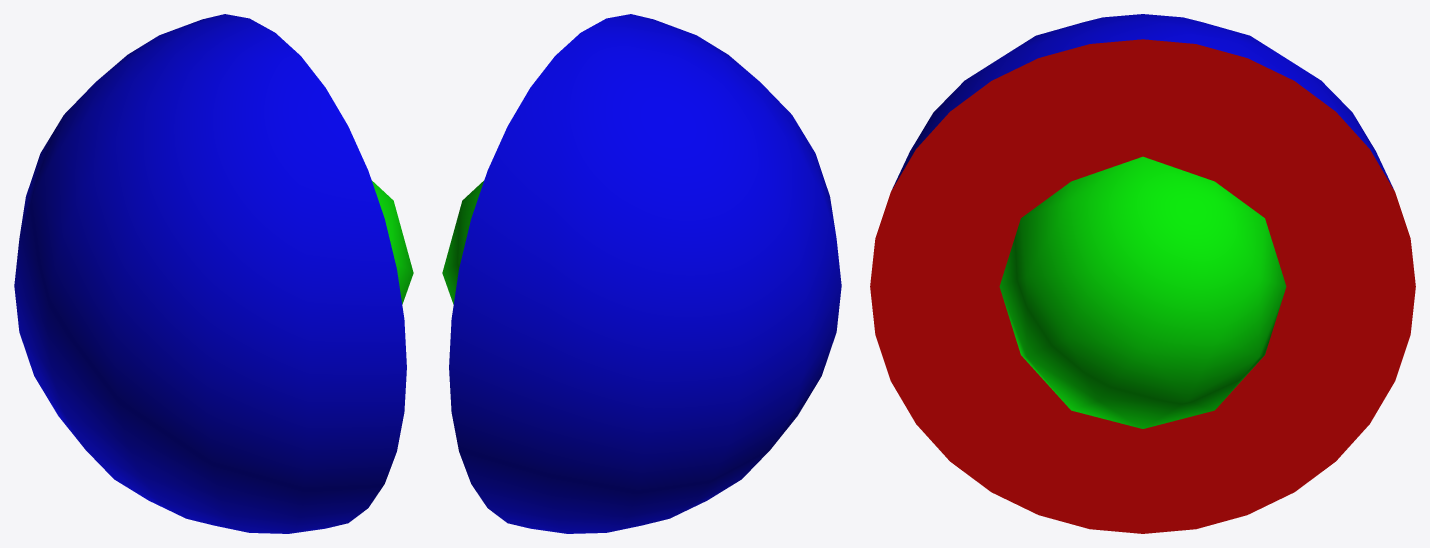
File: Earth_Mode_Toggle_Button_Icon_v03.fbx
3 views of the same model, side by side, from view 1: azimuth 30°, elevation 25°; view 2: azimuth 150°, elevation 25°; view 3: azimuth 270°, elevation 25° (orthographic). The views are drawn at different scales.
Visible parts, largest first — view 1: Earth_Mode_Toggle_Button_Surface, Earth_Mode_Toggle_Button_Core; view 2: Earth_Mode_Toggle_Button_Surface, Earth_Mode_Toggle_Button_Core; view 3: Earth_Mode_Toggle_Button_Surface, Earth_Mode_Toggle_Button_Core.
Boxes of the visible parts, x1,y1,x2,y2 form: Earth_Mode_Toggle_Button_Surface: (14, 14, 406, 533); Earth_Mode_Toggle_Button_Core: (372, 181, 413, 304); Earth_Mode_Toggle_Button_Surface: (449, 14, 841, 533); Earth_Mode_Toggle_Button_Core: (442, 181, 483, 304); Earth_Mode_Toggle_Button_Surface: (870, 14, 1415, 533); Earth_Mode_Toggle_Button_Core: (999, 156, 1286, 428).
Bounding box in the file's own units: 153 × 200 × 200.
